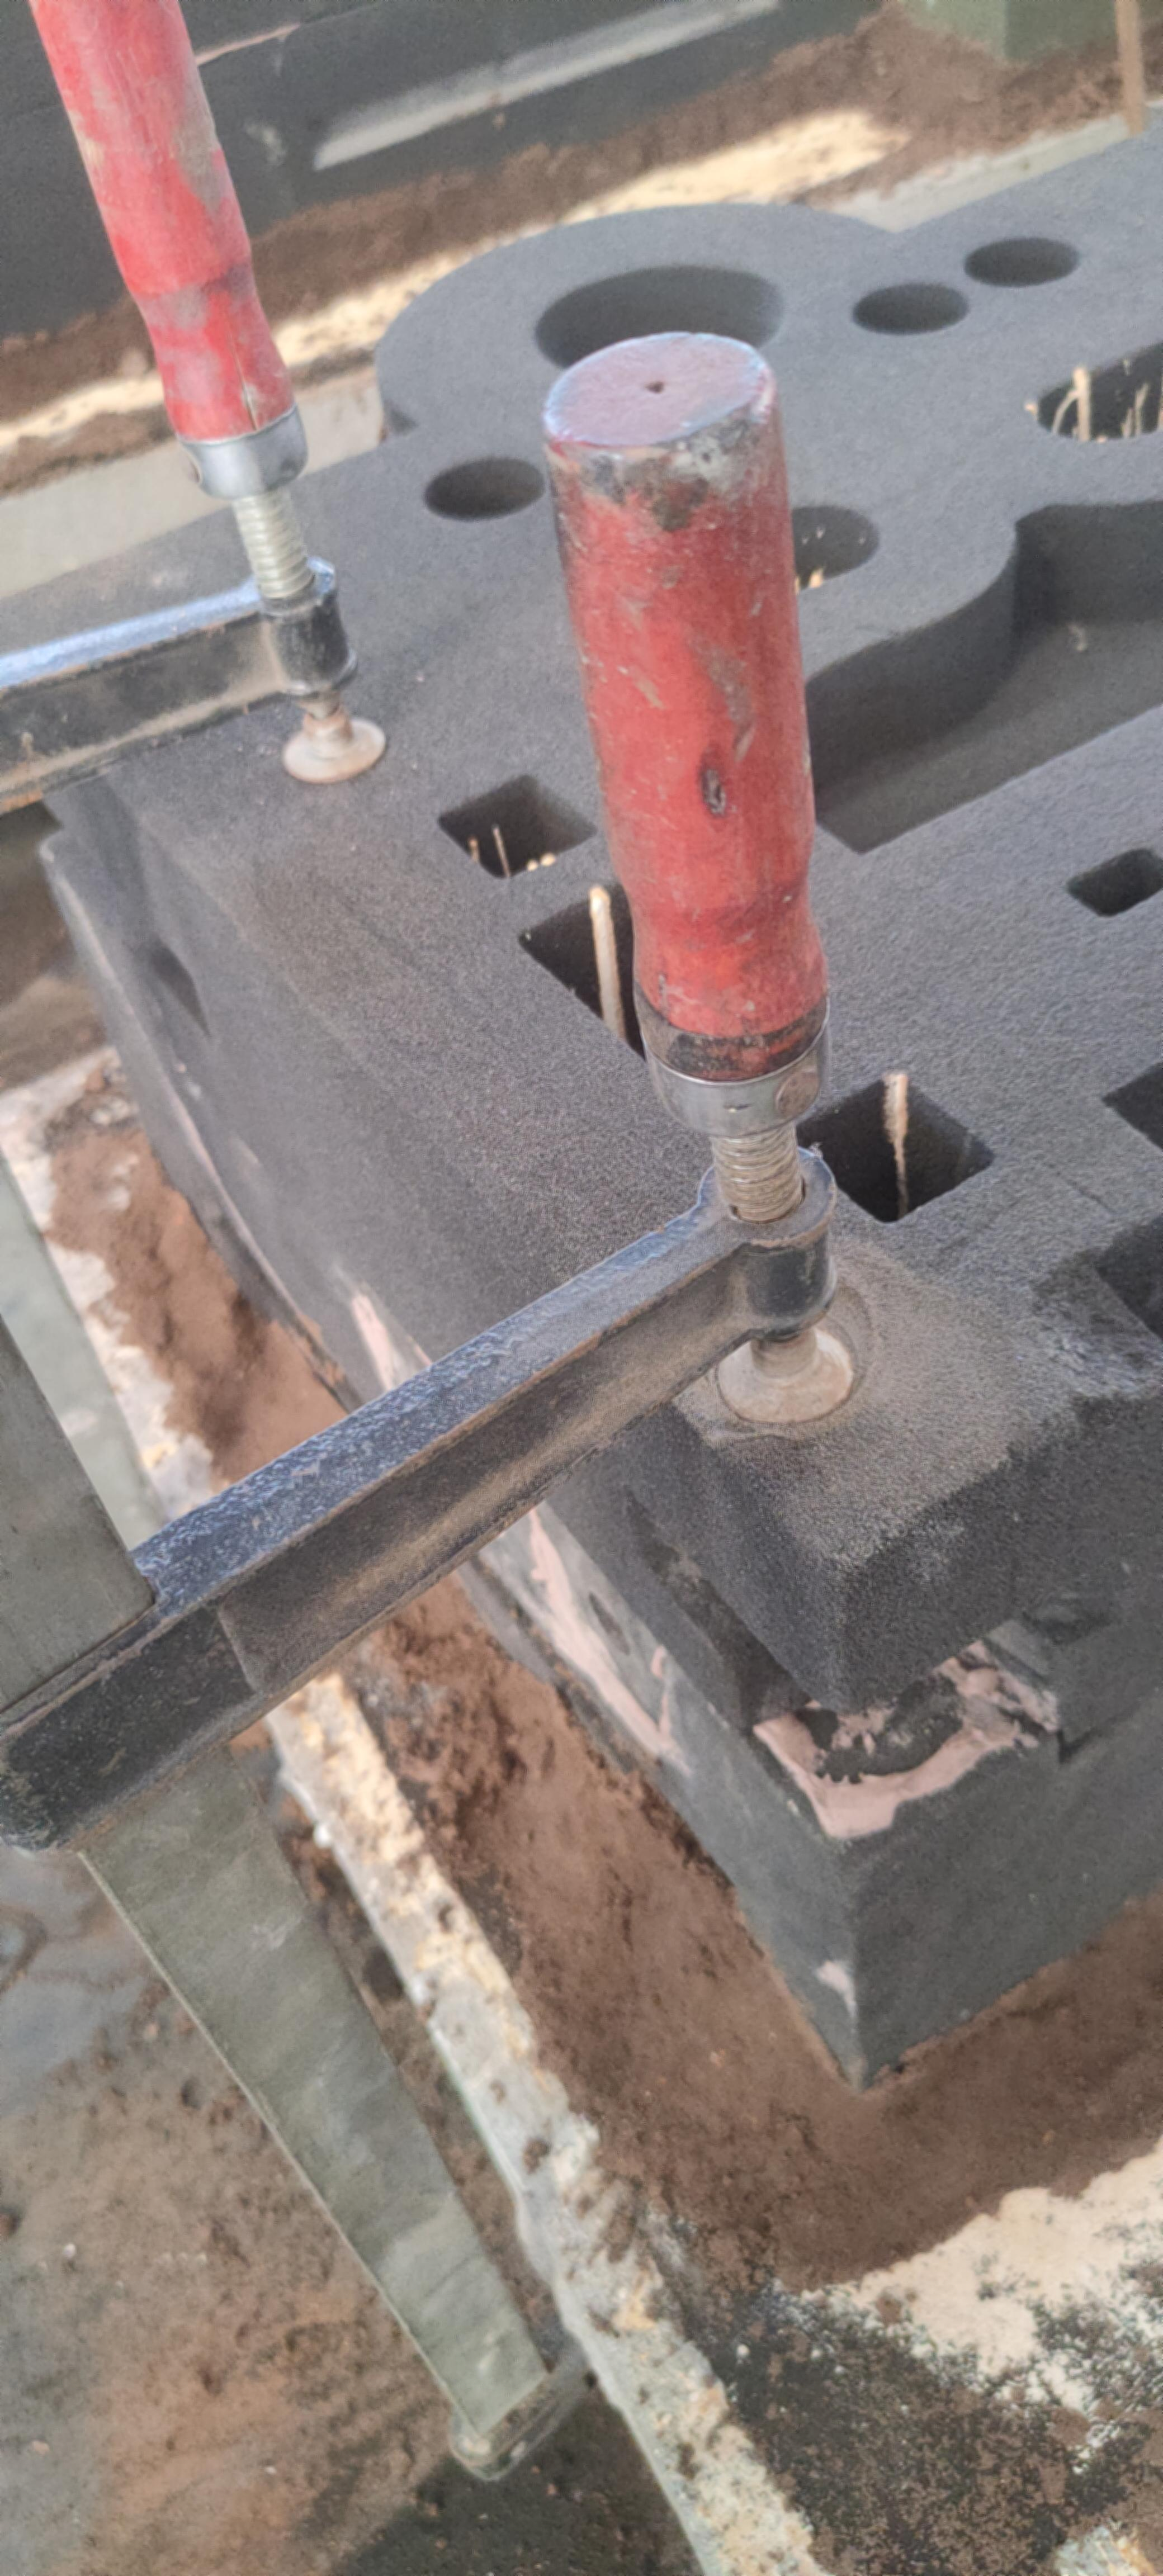pouring hole: (534, 264, 785, 379)
